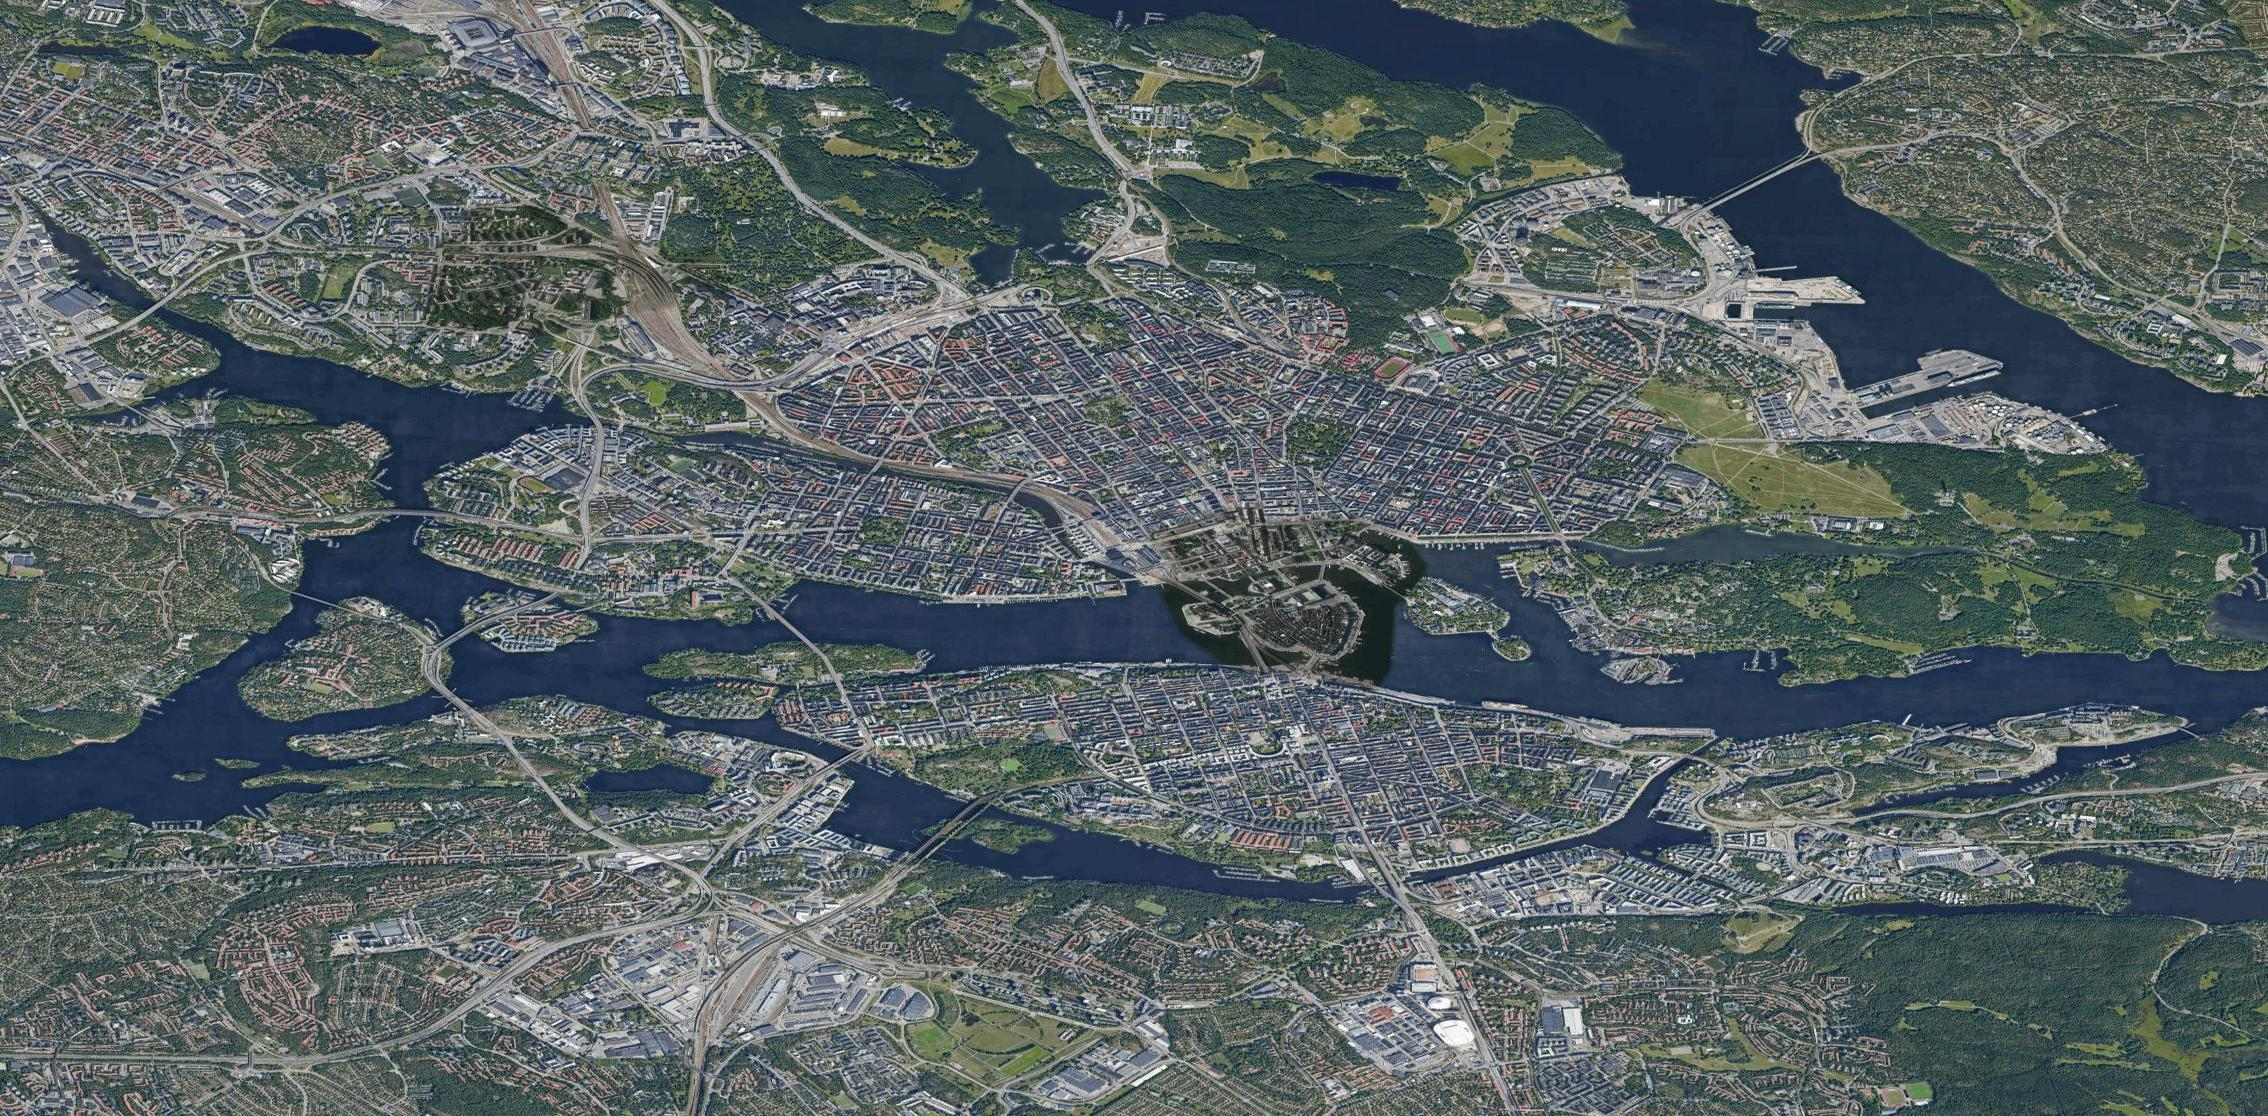bridge: (1692, 149, 1821, 214), (905, 797, 991, 867), (759, 606, 814, 649), (383, 505, 444, 525), (432, 684, 479, 710), (435, 622, 473, 651), (827, 747, 861, 772), (136, 301, 162, 319), (1247, 646, 1266, 671), (584, 413, 603, 434), (1008, 489, 1020, 510)
harbor: (1747, 252, 2157, 455), (1206, 856, 1378, 909), (1406, 531, 1538, 600), (940, 588, 1128, 623), (1585, 646, 1711, 695), (816, 797, 871, 844), (362, 450, 409, 502), (499, 383, 566, 419), (756, 585, 813, 614)
train_station: (1075, 523, 1169, 583)
